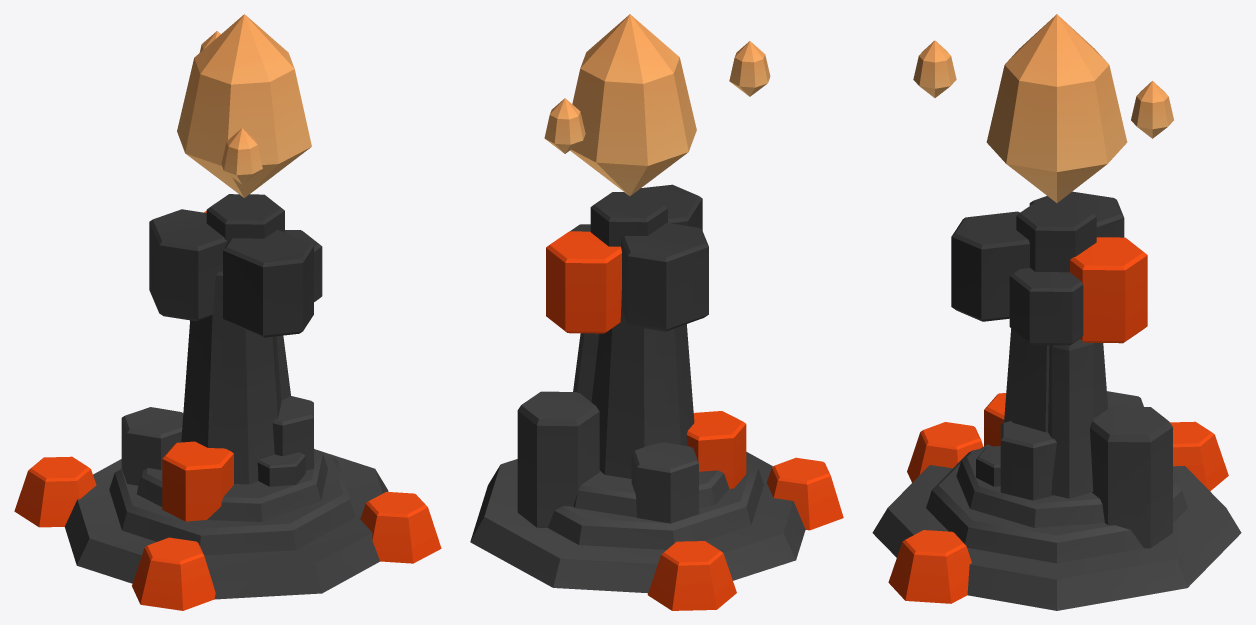
File: Magic Tower 2.fbx
3 renders of one model, left to right at view 1: azimuth 30°, elevation 25°; view 2: azimuth 150°, elevation 25°; view 3: azimuth 270°, elevation 25°, orthographic. The views are drawn at different scales.
Parts seen in each view (by area): view 1: MagicTower_Lv2, Big_Stone, Stone3; view 2: MagicTower_Lv2, Big_Stone, Stone3, Stone2; view 3: MagicTower_Lv2, Big_Stone, Stone3, Stone2.
Boxes of the visible parts, box(x1,y1,x2,y2) form: MagicTower_Lv2: box(14, 194, 441, 610); Big_Stone: box(177, 14, 311, 197); Stone3: box(221, 128, 262, 184); MagicTower_Lv2: box(470, 184, 843, 610); Big_Stone: box(570, 14, 696, 195); Stone3: box(729, 41, 770, 96); Stone2: box(544, 98, 585, 153); MagicTower_Lv2: box(872, 191, 1241, 610); Big_Stone: box(986, 14, 1127, 202); Stone3: box(913, 40, 956, 97); Stone2: box(1131, 81, 1173, 138).
Bounding box in the file's own units: 1.28 × 2.05 × 1.28.
Materials: 1 (1 with a texture image).
